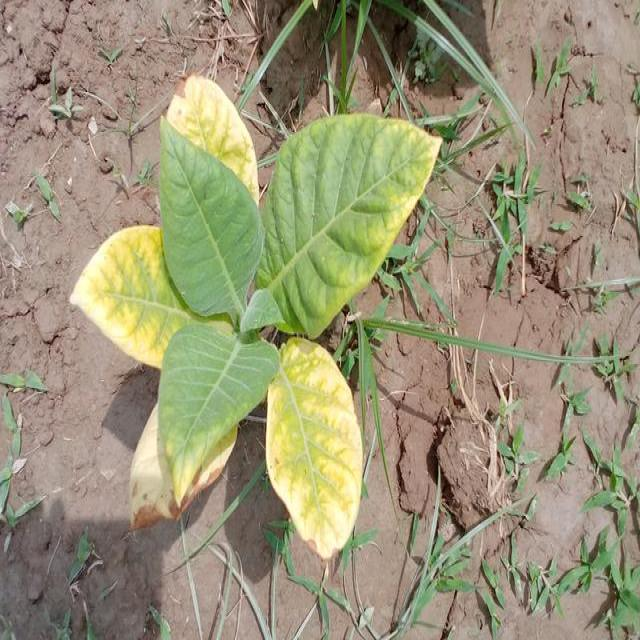crop: (91, 84, 436, 540)
